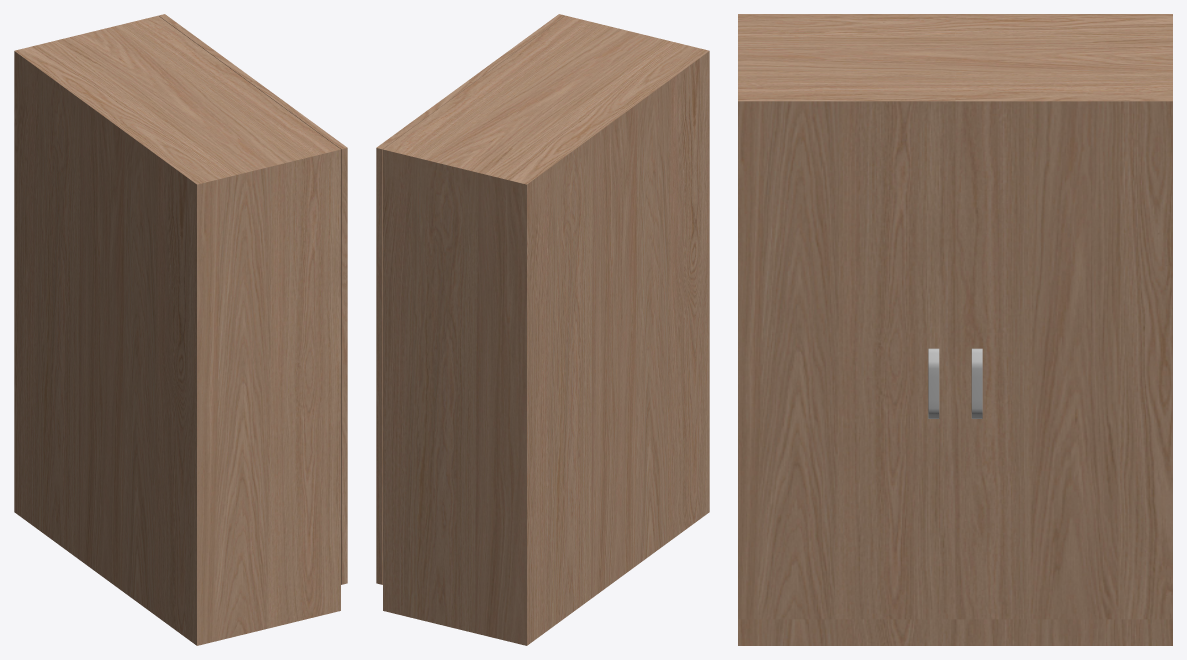
Rendered from Wardrobe.fbx.
The picture shows the model from 3 angles, left to right: view 1: azimuth 30°, elevation 25°; view 2: azimuth 150°, elevation 25°; view 3: azimuth 270°, elevation 25°; orthographic projection. The views are drawn at different scales.
Visible parts, largest first — view 1: Wardrobe; view 2: Wardrobe; view 3: Wardrobe.
Part boxes in pixels (<box>): Wardrobe: <box>14,14,347,645</box>; Wardrobe: <box>376,14,709,645</box>; Wardrobe: <box>738,14,1172,645</box>.
Size of the model in its own units: 208 by 411 by 573.
Materials: 2 (1 with a texture image).
